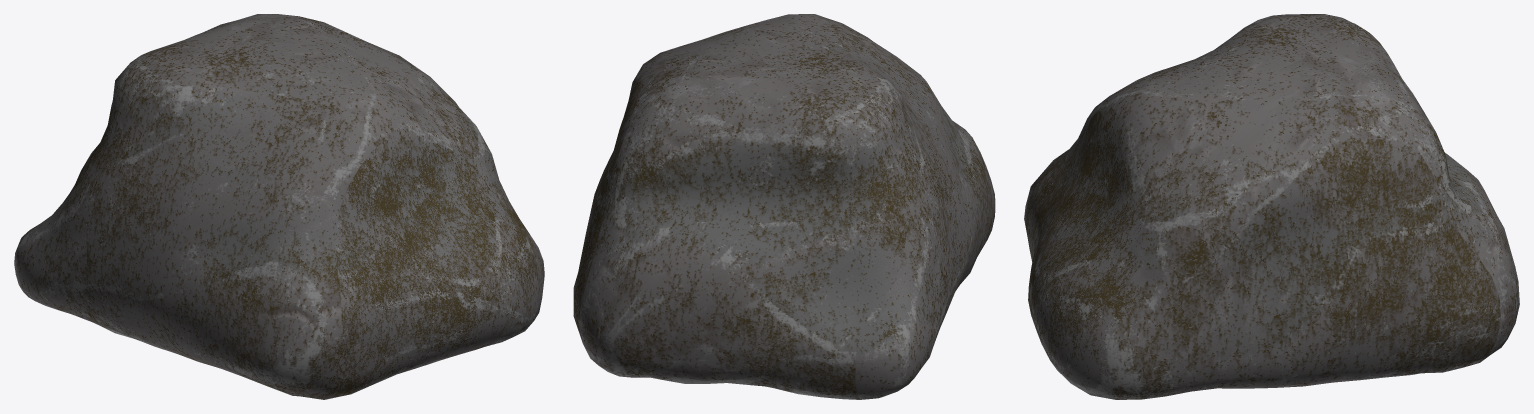
The model's file is rock2.fbx.
3 views of the same model, side by side, from view 1: azimuth 30°, elevation 25°; view 2: azimuth 150°, elevation 25°; view 3: azimuth 270°, elevation 25° (orthographic). The views are drawn at different scales.
Visible parts, largest first — view 1: rock_low; view 2: rock_low; view 3: rock_low.
Boxes of the visible parts, <box> form: rock_low: <box>14,14,544,399</box>; rock_low: <box>573,14,995,399</box>; rock_low: <box>1024,14,1519,399</box>.
Size of the model in its own units: 219 by 144 by 238.
